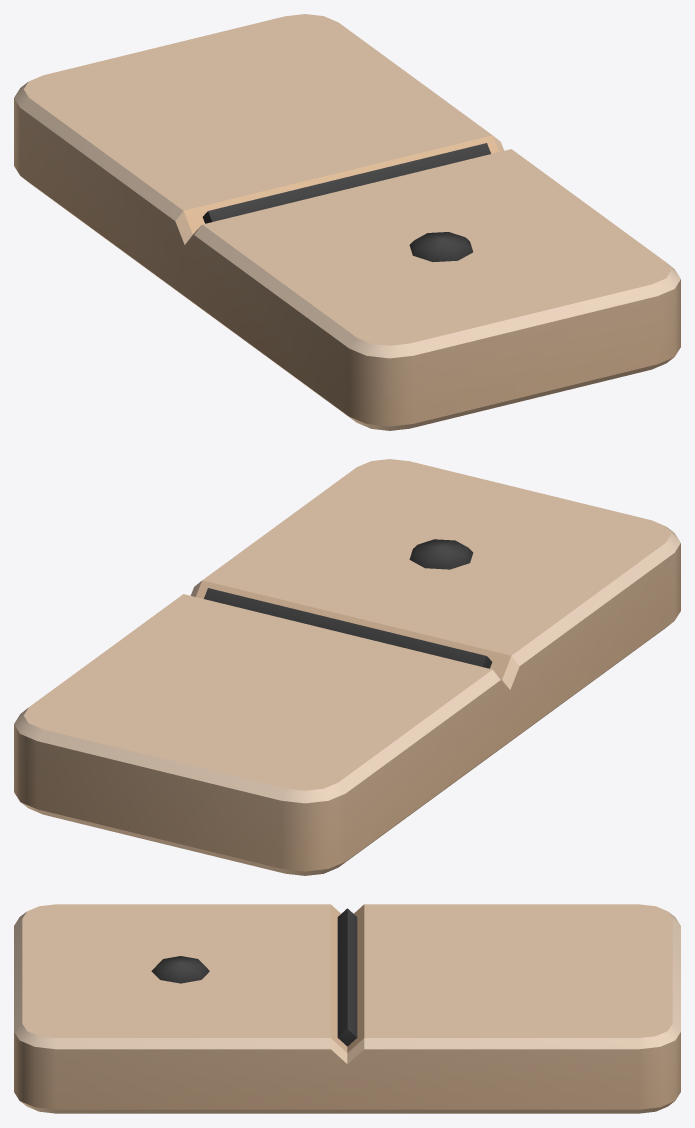
File: domino_tile_0-1.gltf
The picture shows the model from 3 angles, top to bottom: view 1: azimuth 30°, elevation 25°; view 2: azimuth 150°, elevation 25°; view 3: azimuth 270°, elevation 25°; orthographic projection. The views are drawn at different scales.
Visible parts, largest first — view 1: domino_tile_0-1; view 2: domino_tile_0-1; view 3: domino_tile_0-1.
Part boxes in pixels (left/top/right/bottom): domino_tile_0-1: left=14, top=14, right=680, bottom=430; domino_tile_0-1: left=14, top=459, right=680, bottom=875; domino_tile_0-1: left=14, top=904, right=680, bottom=1113.
Bounding box in the file's own units: 1 × 0.2767 × 2.
1 material, 1 textured.
